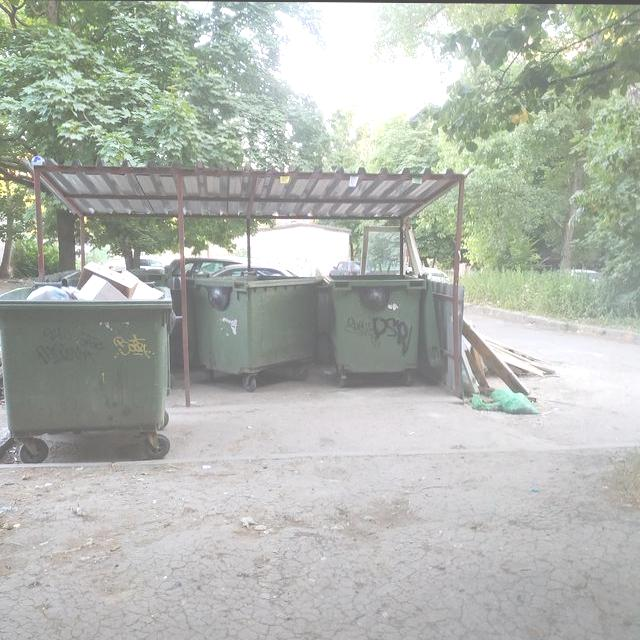Trash_Can_Empty: (191, 273, 321, 375), (326, 271, 428, 376)
Trash_Can_Full: (1, 260, 172, 436)
